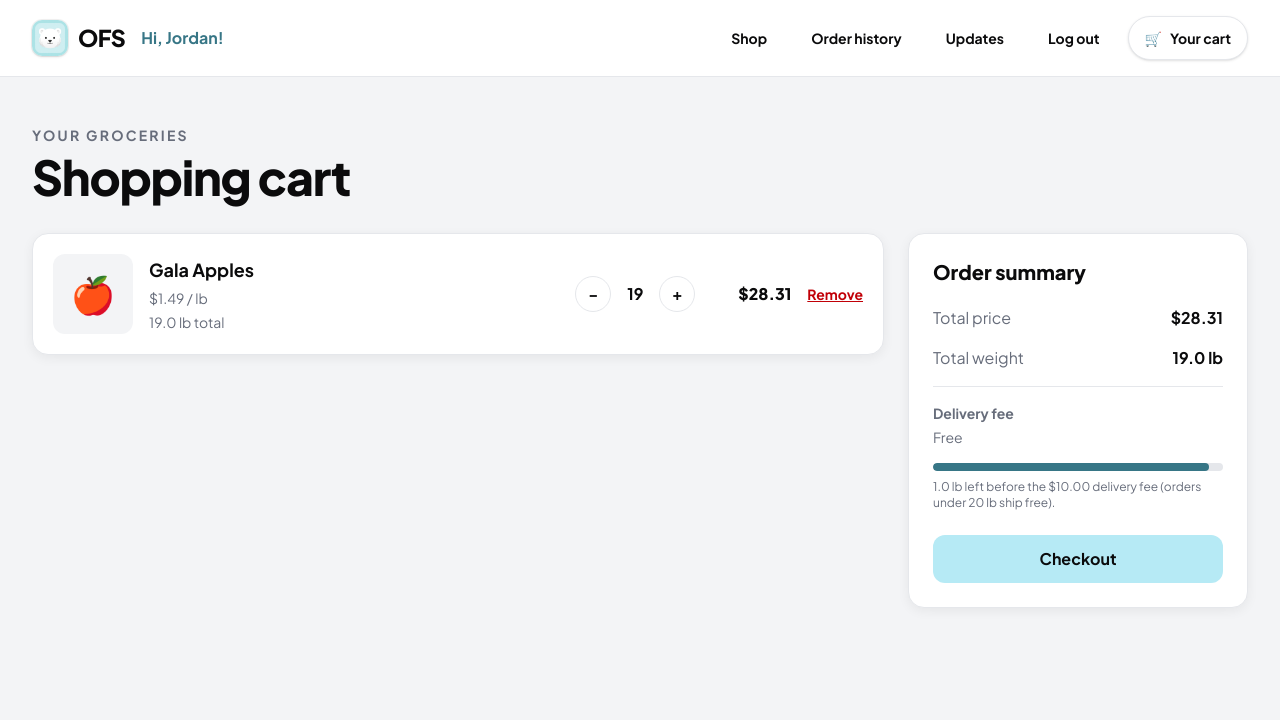
Test: cart totals › adds the delivery fee once the cart reaches the weight limit
The image size is (1280, 720).
Expected: the heading "Gala Apples" is shown, [149,258,254,281]
Expected: the text "1.0 lb left before the $10.00 delivery fee" is shown, [933,479,1201,510]
Step 1. Click the button "+" → (677, 294), box [659,276,695,312]
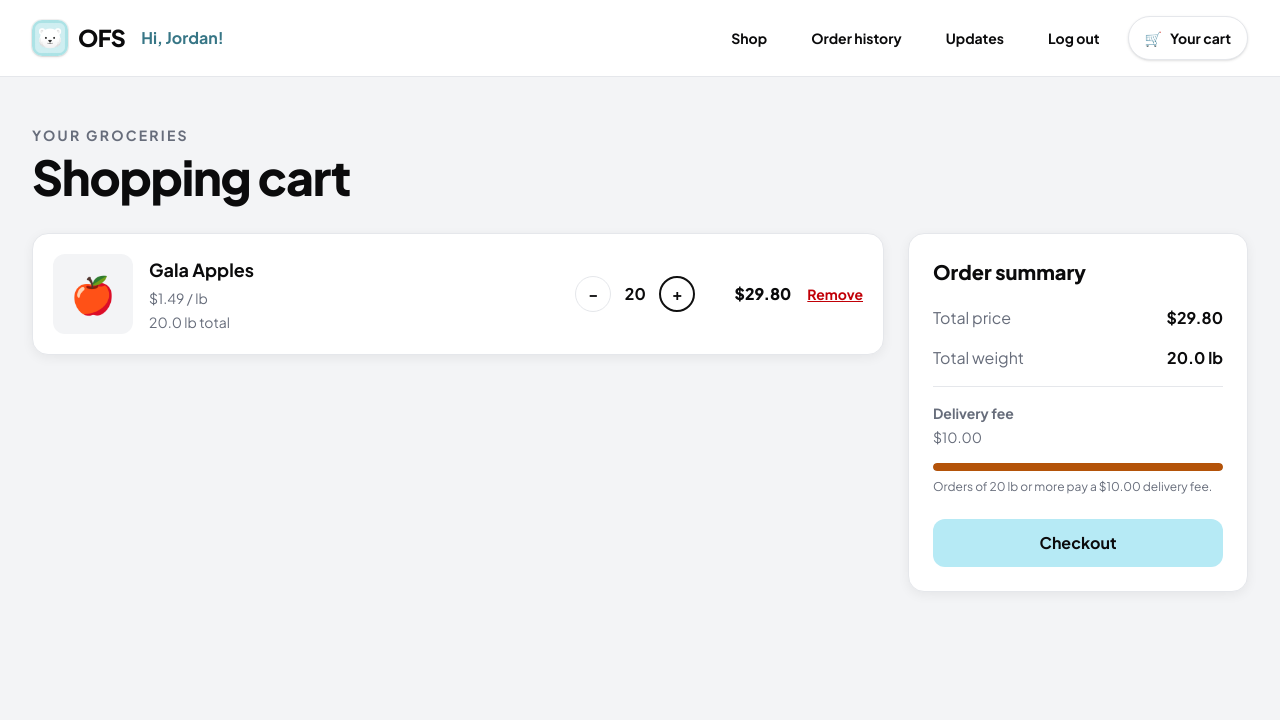
Now the text named "Quantity 20" is shown, box [623,282,647,306]
Now the text "Orders of 20 lb or more pay a $10.00 delivery fee." is shown, box [933,479,1223,495]
